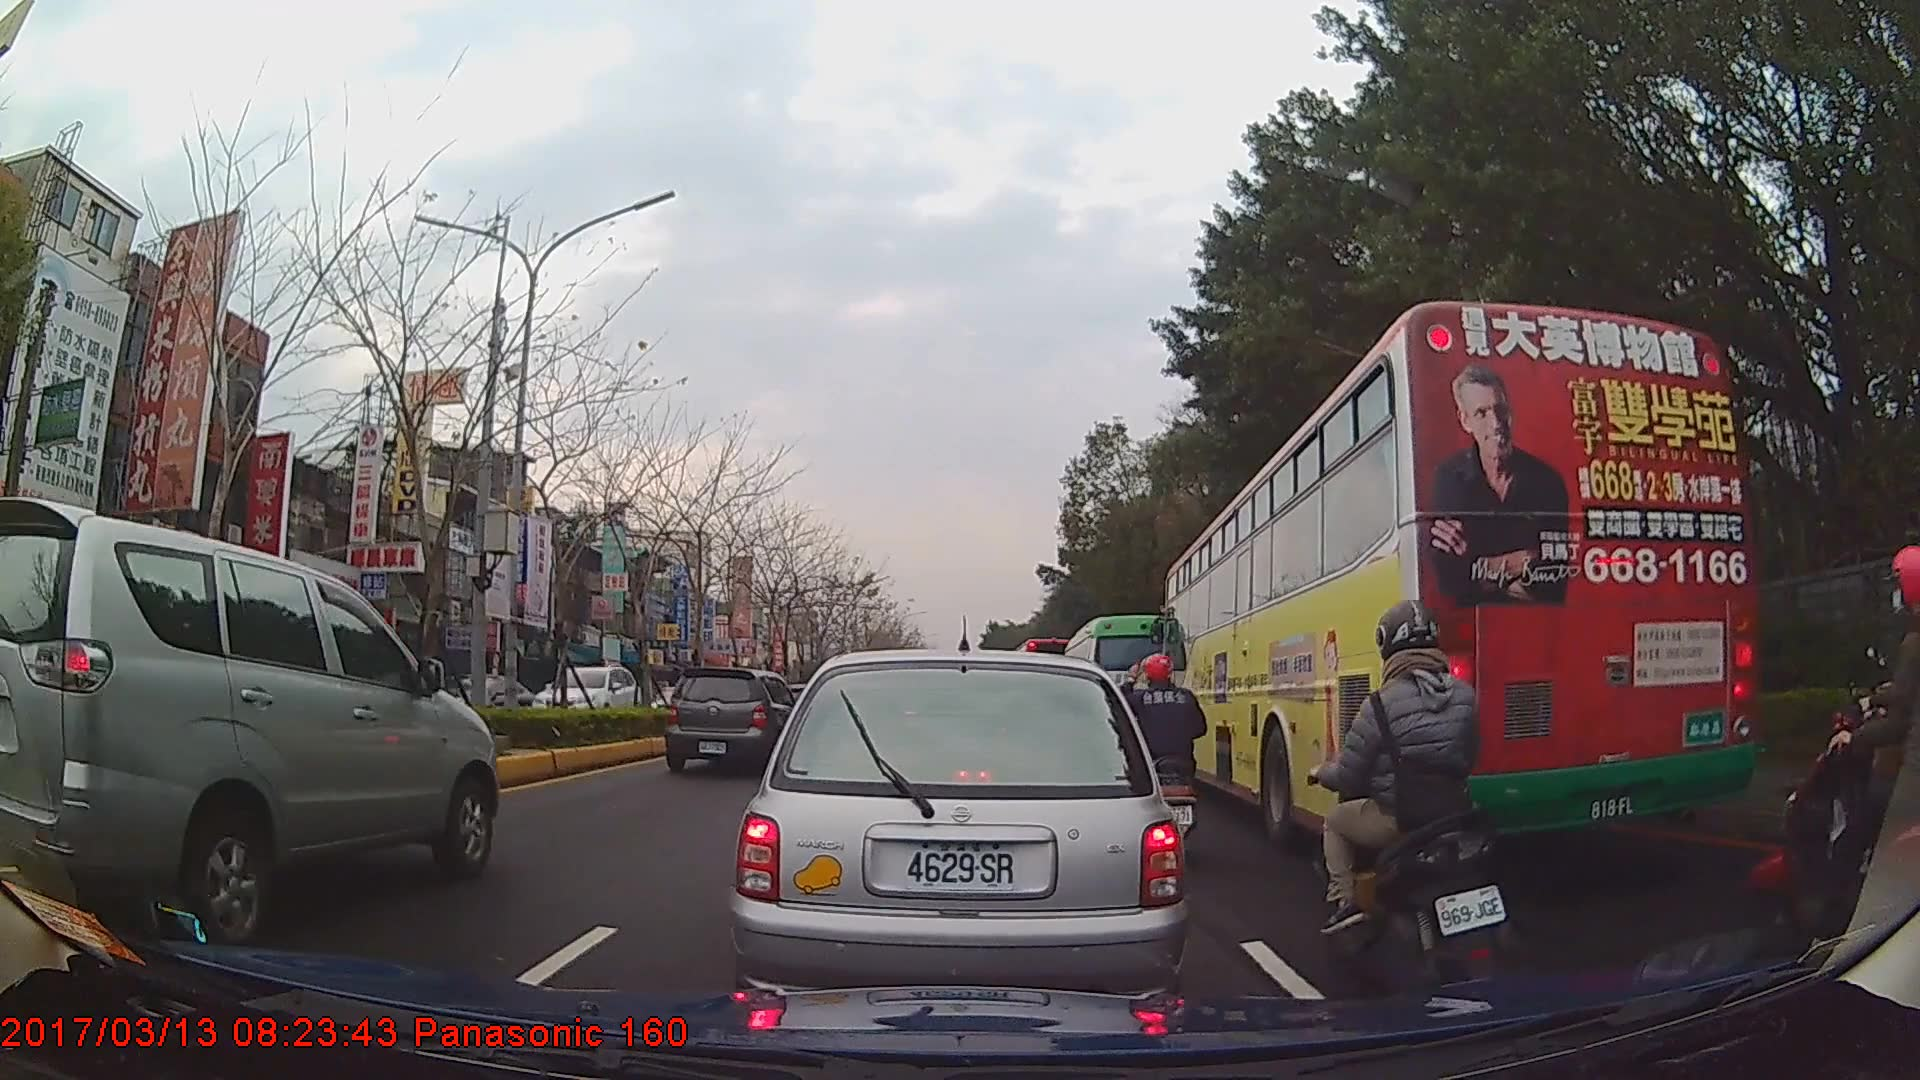rider: (1309, 593, 1508, 1002), (1734, 550, 1917, 968), (1115, 652, 1208, 848)
vehicle: (1160, 298, 1760, 861), (12, 494, 500, 945), (731, 646, 1187, 1020), (1059, 613, 1190, 765), (664, 668, 799, 776), (532, 662, 643, 734), (417, 670, 529, 738)
